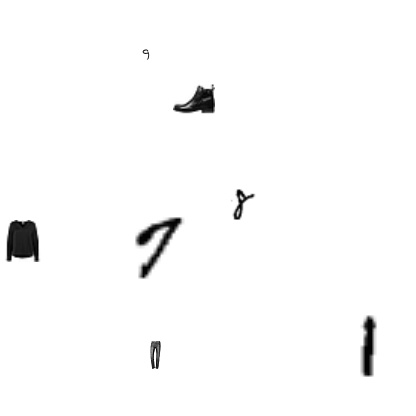1: (325, 304, 409, 388)
7: (112, 197, 196, 281)
8: (219, 182, 261, 224)
9: (139, 46, 153, 60)
Ankle_boot: (173, 77, 215, 119)
Shirt: (1, 220, 43, 262)
Trouser: (141, 341, 169, 369)
